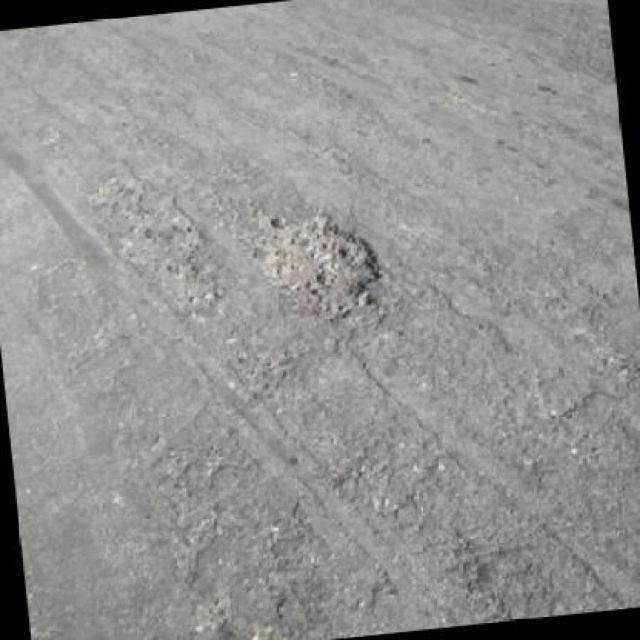pothole: (81, 169, 228, 329), (243, 199, 391, 332)
